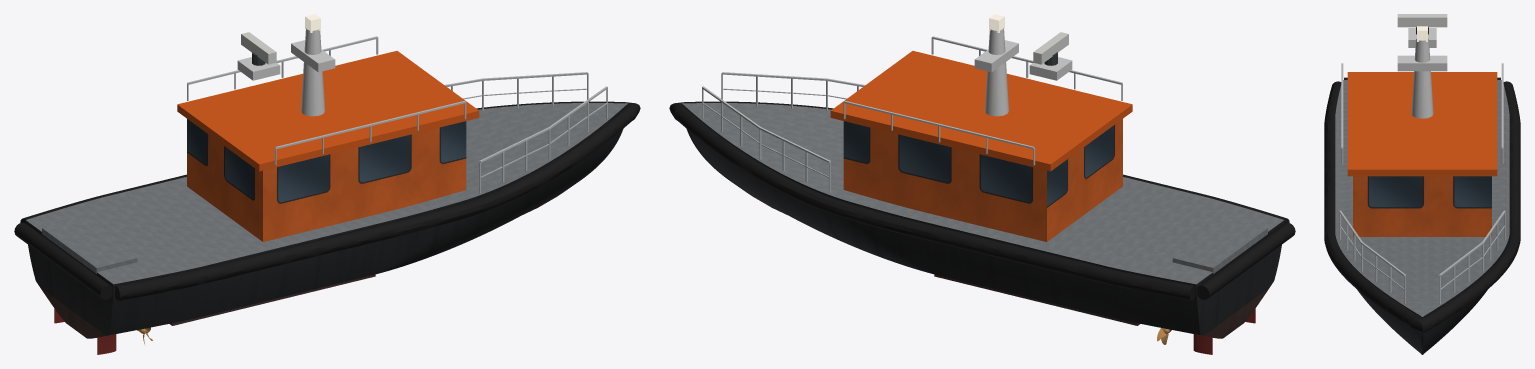
The model's file is pilot-boat-35f15f56.glb.
3 renders of one model, left to right at view 1: azimuth 30°, elevation 25°; view 2: azimuth 150°, elevation 25°; view 3: azimuth 270°, elevation 25°, orthographic. The views are drawn at different scales.
Visible parts, largest first — view 1: Hull, Wheelhouse, Fender collar, Handrails and boarding platforms, Mast, Keel skeg; view 2: Hull, Wheelhouse, Fender collar, Handrails and boarding platforms, Mast, Keel skeg; view 3: Wheelhouse, Hull, Fender collar, Mast, Handrails and boarding platforms.
Boxes of the visible parts, <box> form: Hull: <box>25,103,628,338</box>; Wheelhouse: <box>177,51,479,241</box>; Fender collar: <box>14,101,640,300</box>; Handrails and boarding platforms: <box>42,36,607,273</box>; Mast: <box>237,14,335,116</box>; Keel skeg: <box>169,274,375,325</box>; Hull: <box>681,103,1284,338</box>; Wheelhouse: <box>830,51,1132,241</box>; Fender collar: <box>669,101,1295,300</box>; Handrails and boarding platforms: <box>702,36,1267,273</box>; Mast: <box>974,14,1072,116</box>; Keel skeg: <box>934,274,1140,325</box>; Wheelhouse: <box>1347,72,1497,236</box>; Hull: <box>1335,80,1509,354</box>; Fender collar: <box>1324,77,1520,332</box>; Mast: <box>1397,14,1447,118</box>; Handrails and boarding platforms: <box>1339,63,1505,304</box>.
Bounding box in the file's own units: 17.22 × 7.7 × 5.52.
Materials: 14 (14 with a texture image).
